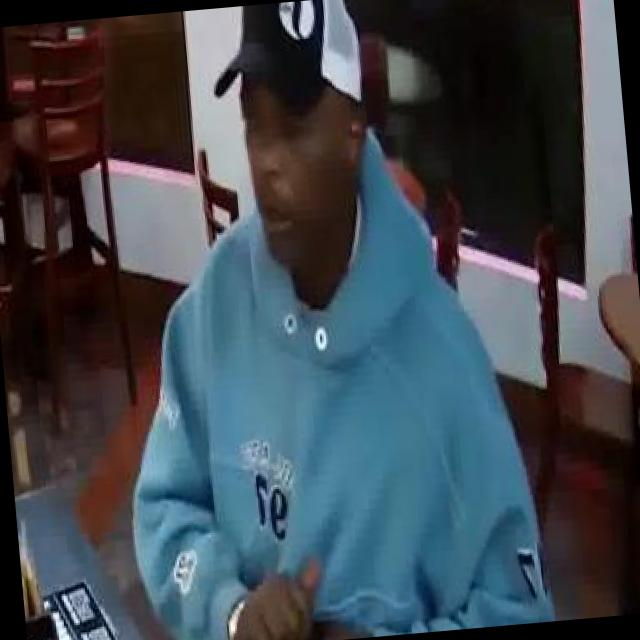Guns: (207, 598, 336, 640)
